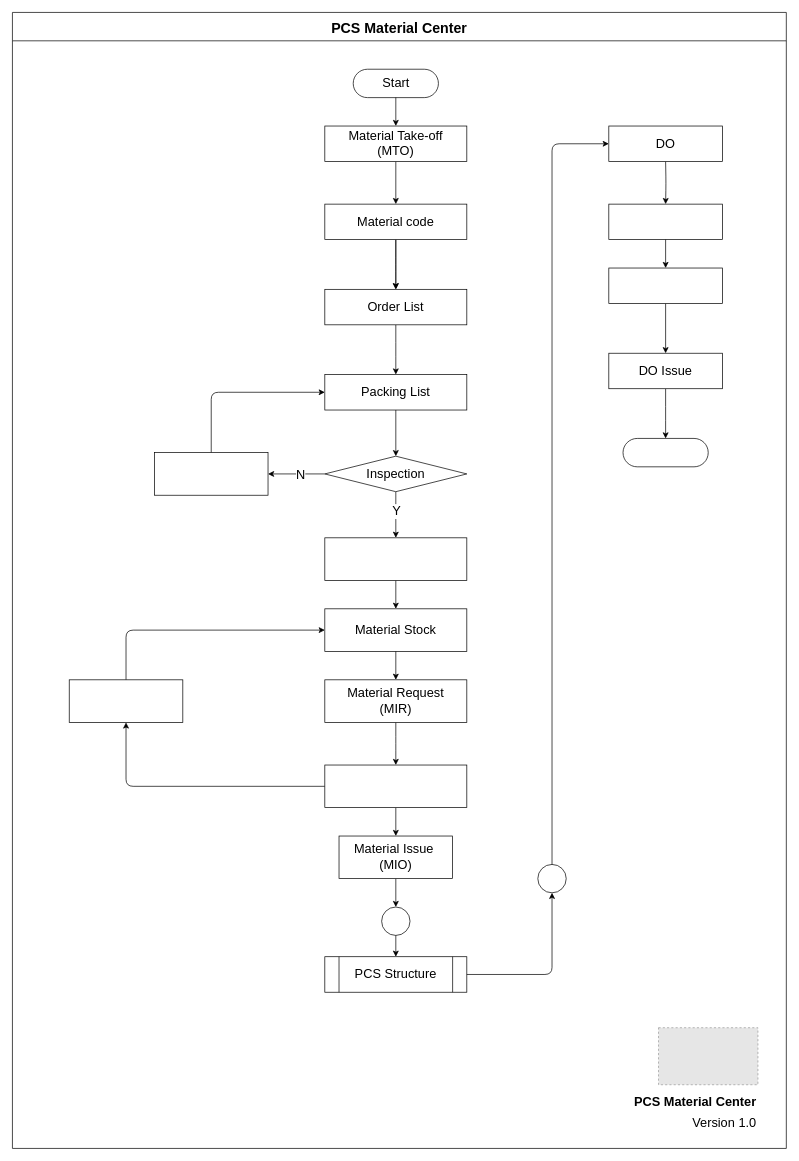
This 799x1161 diagram has some shape labels left out. Grey dashed boxes stand in for pictures. The shapes that lost their labels are listed below. From the top down, each one's centre as x and y in pixels, then its label:
At (665,221): "DO Receive".
At (665,285): "DO Request".
At (665,452): "End".
At (211,473): "Material Receive (RDR)".
At (395,558): "Material Receive (MRR)".
At (126,700): "Remain".
At (395,786): "Matching".
